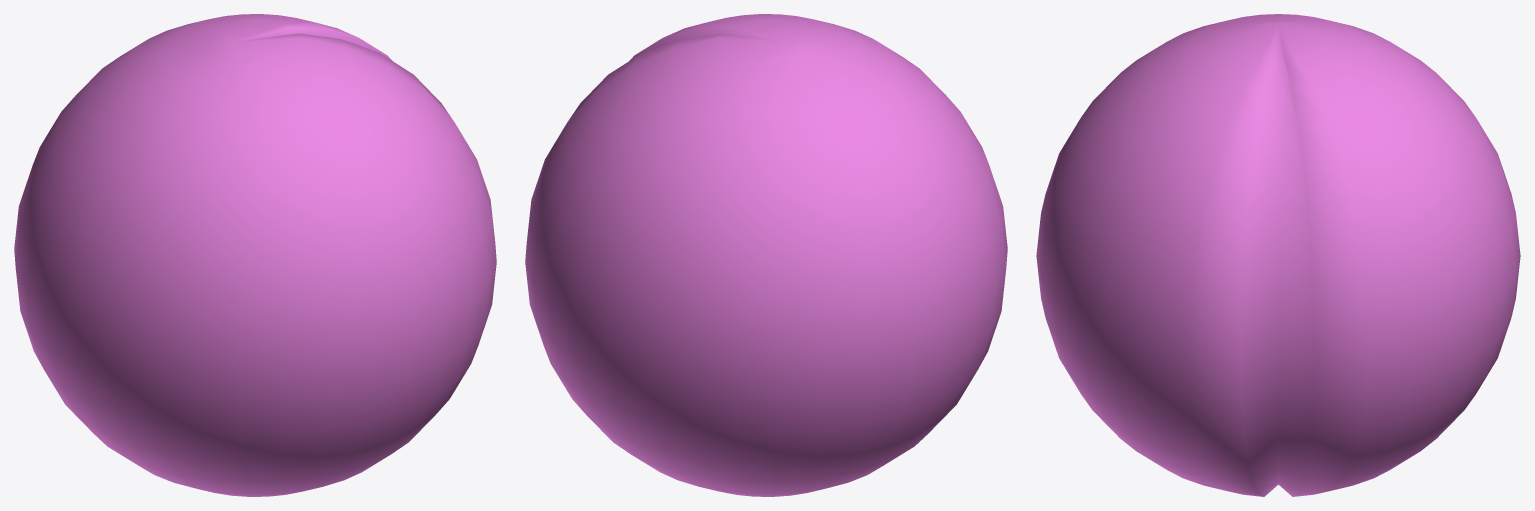
File: Peach.fbx
3 views of the same model, side by side, from view 1: azimuth 30°, elevation 25°; view 2: azimuth 150°, elevation 25°; view 3: azimuth 270°, elevation 25° (orthographic).
Parts seen in each view (by area): view 1: Peach; view 2: Peach; view 3: Peach.
Part boxes in pixels (x1=…): Peach: x1=14, y1=14, x2=496, y2=496; Peach: x1=525, y1=14, x2=1007, y2=496; Peach: x1=1036, y1=14, x2=1520, y2=496.
Size of the model in its own units: 93.1 by 94 by 94.
